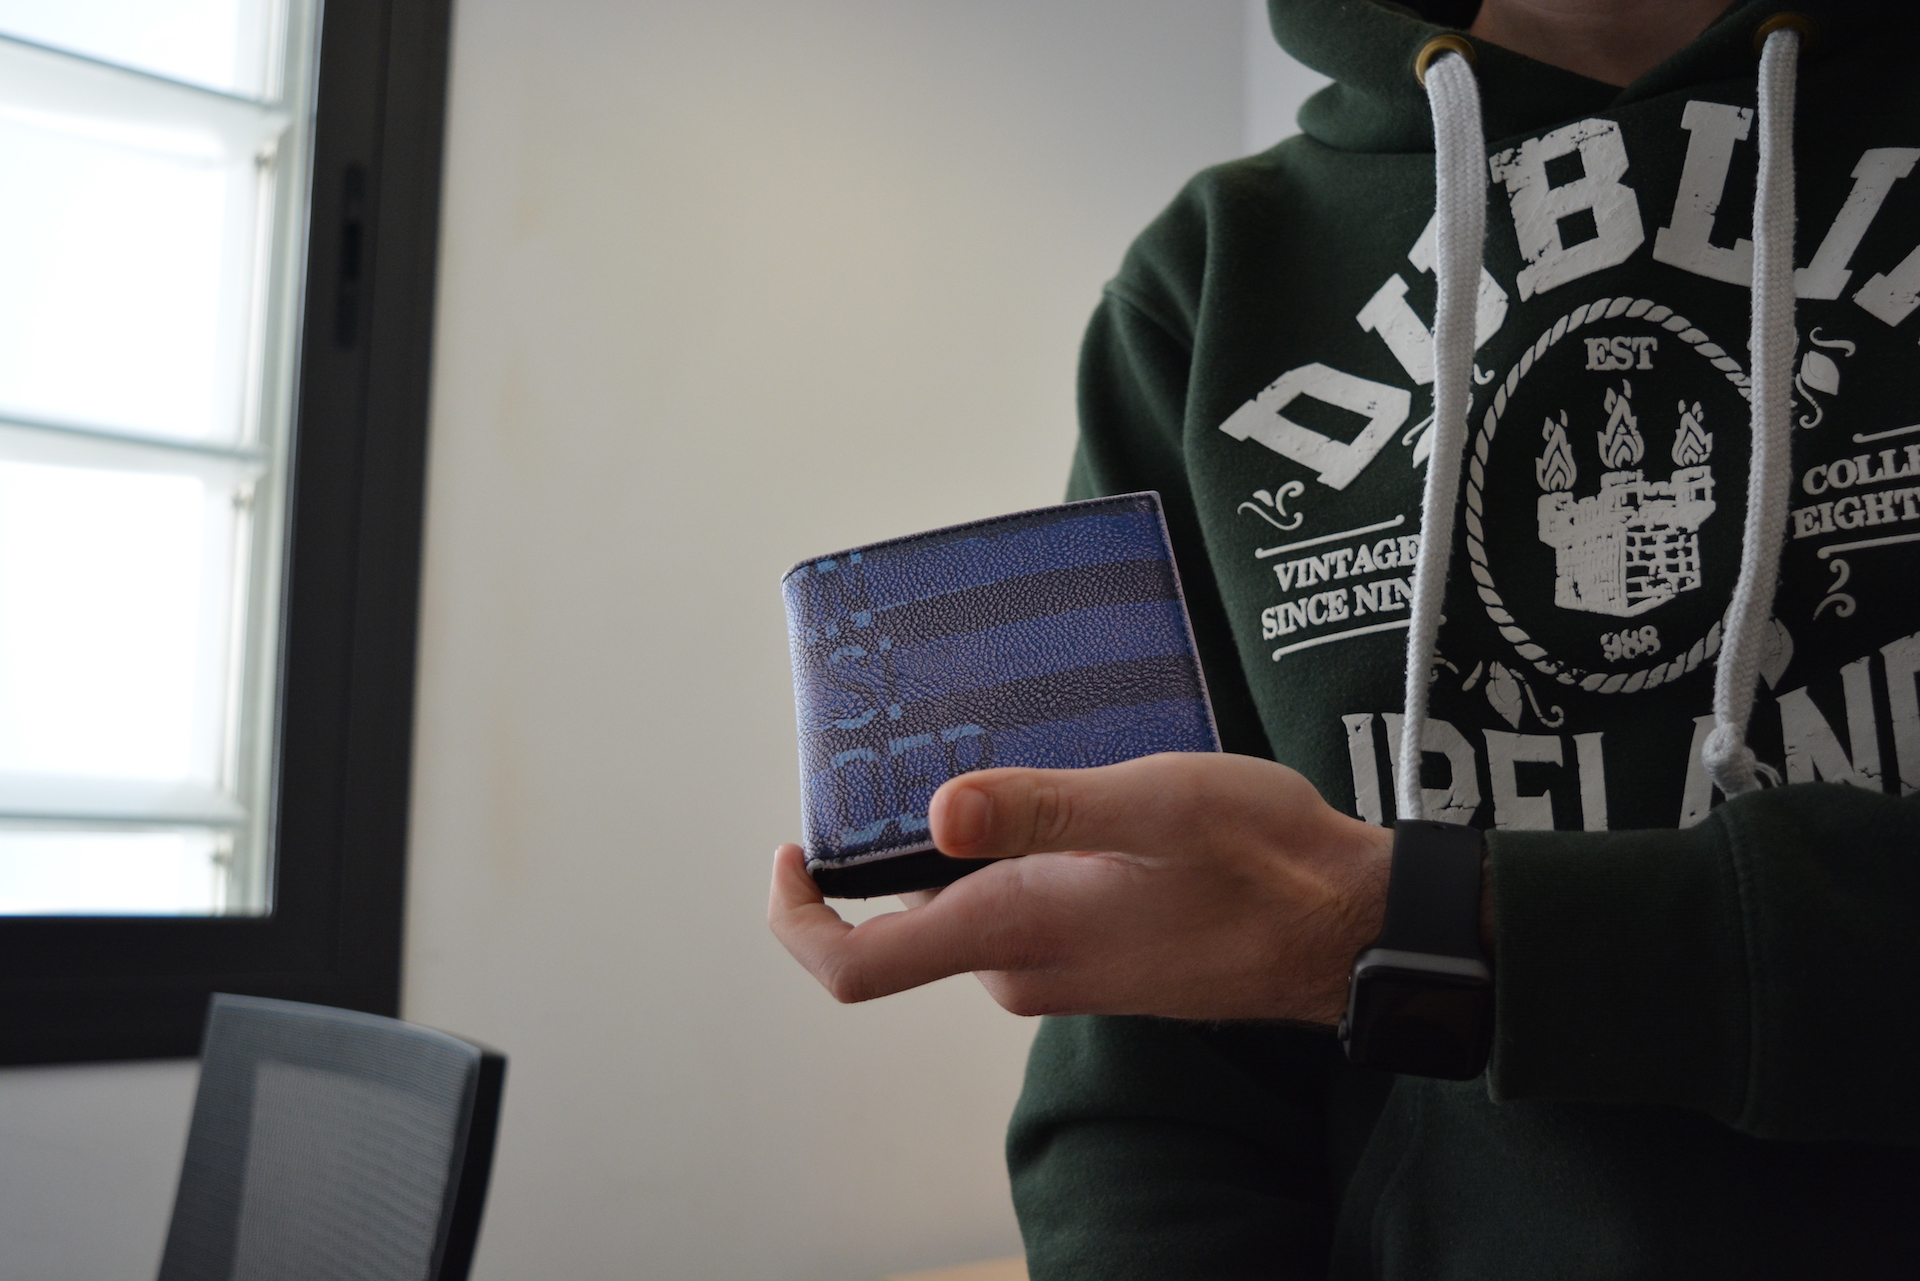monedero: (776, 485, 1228, 902)
